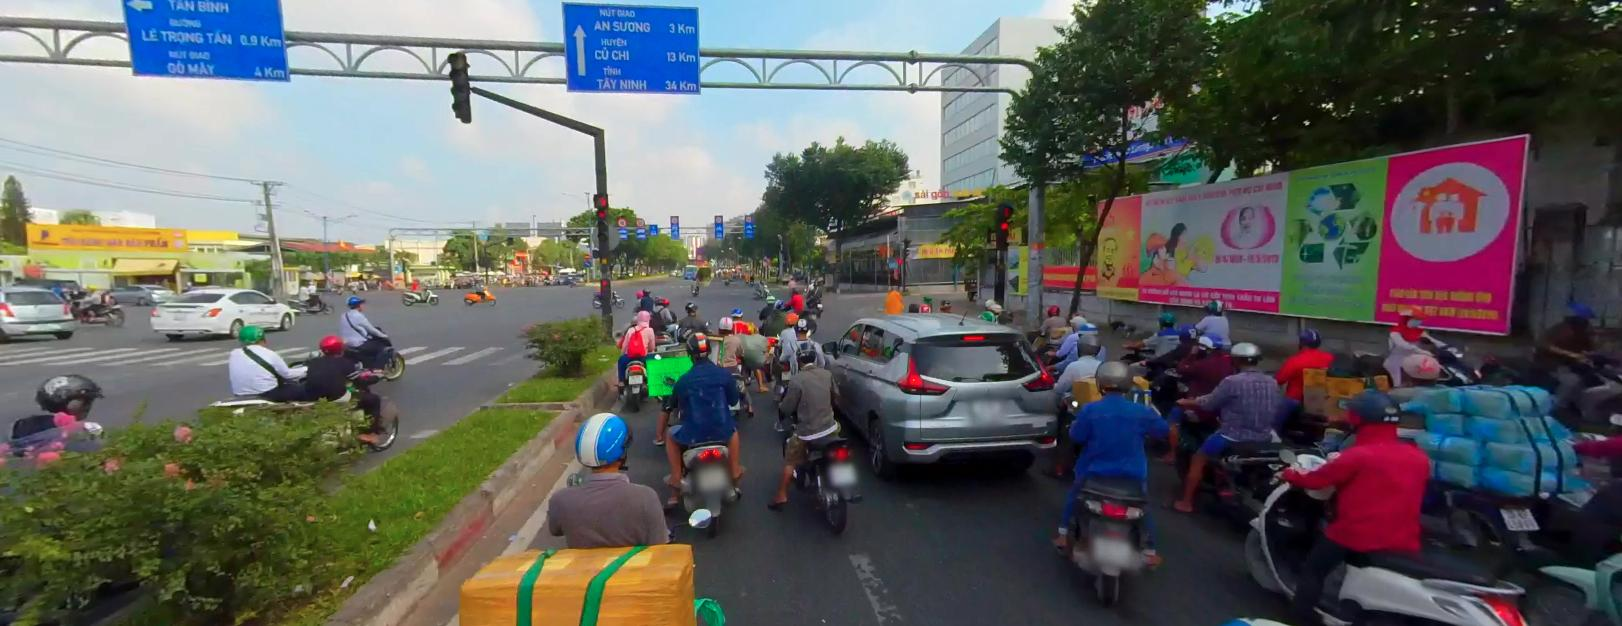Gioi han toc do: (635, 216, 644, 225), (617, 216, 626, 223), (715, 214, 723, 220), (671, 214, 677, 221), (745, 214, 751, 219)
